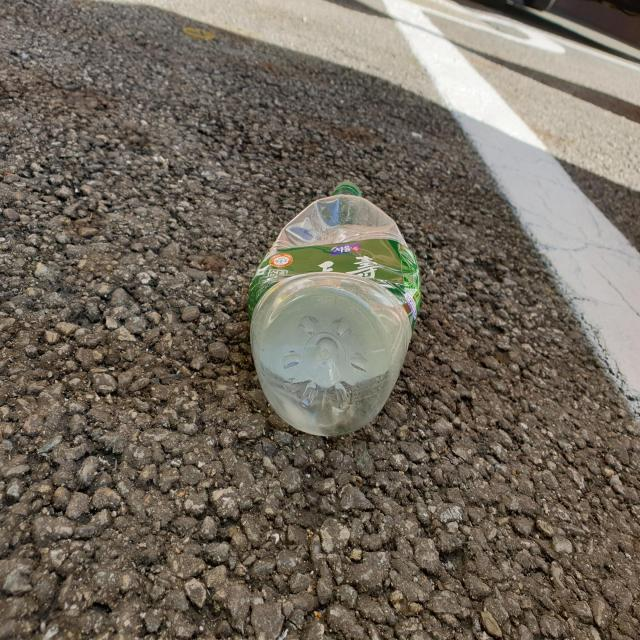plastic: (248, 181, 422, 436)
